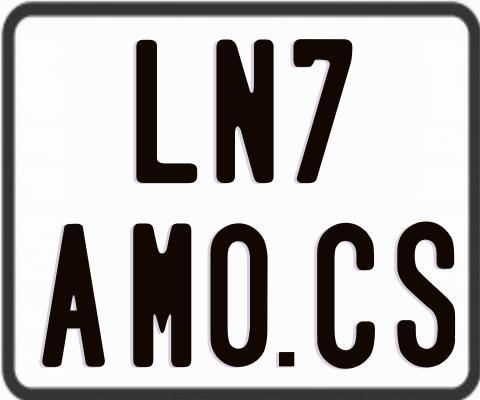0: (207, 222, 267, 372)
7: (293, 37, 355, 186)
A: (41, 224, 108, 369)
C: (317, 220, 379, 372)
L: (135, 37, 200, 186)
M: (131, 220, 193, 369)
N: (215, 38, 274, 187)
S: (397, 219, 459, 372)
